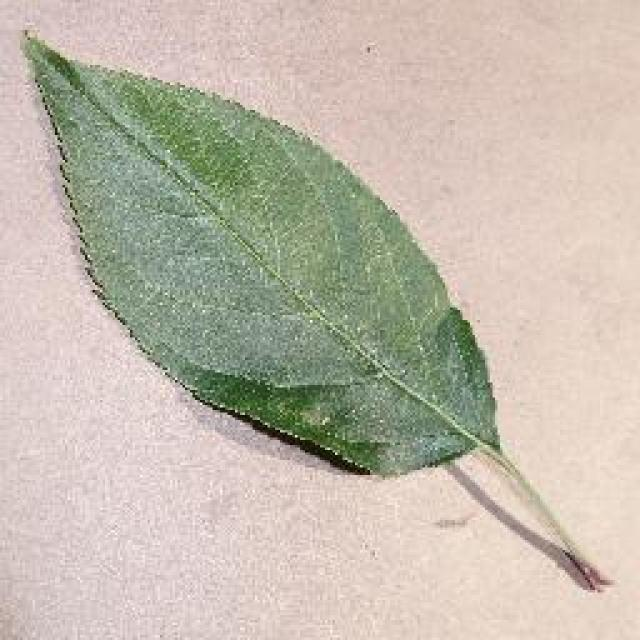apple healthy: (18, 22, 612, 592)
